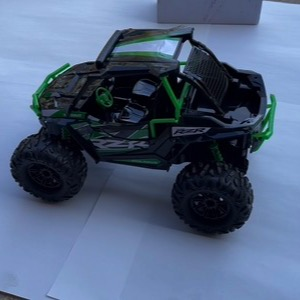polaris: (9, 26, 278, 238)
